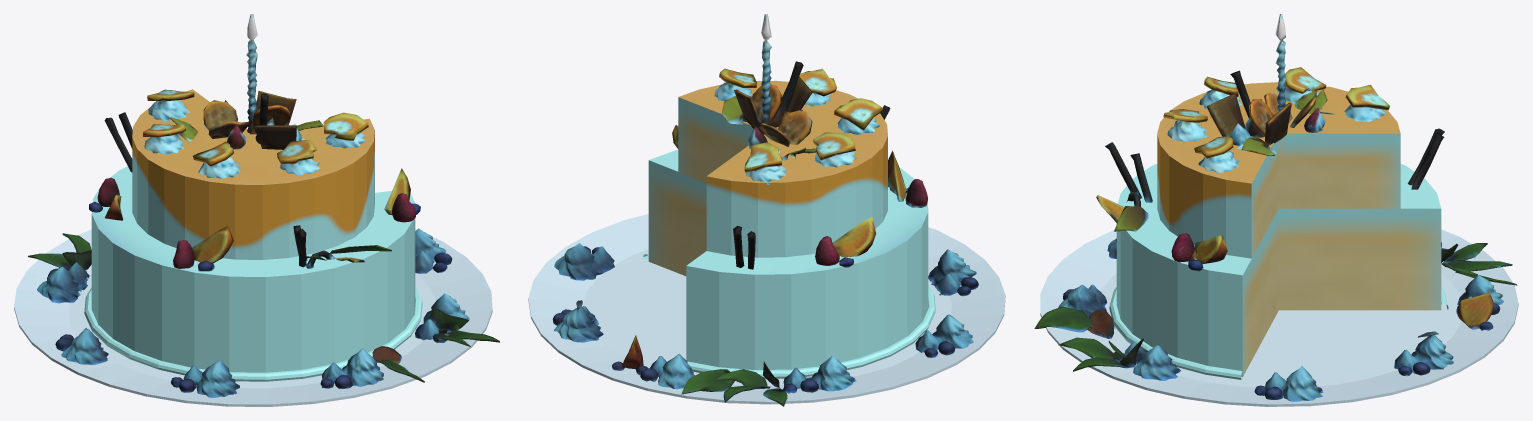
The model's file is denia_cake_2.obj.
3 renders of one model, left to right at view 1: azimuth 30°, elevation 25°; view 2: azimuth 150°, elevation 25°; view 3: azimuth 270°, elevation 25°, orthographic.
Visible parts, largest first — view 1: cake; view 2: cake; view 3: cake.
Boxes of the visible parts, x1,y1,x2,y2 form: cake: (14,14,499,406); cake: (528,14,1005,406); cake: (1034,14,1518,406).
Size of the model in its own units: 0.959 by 0.6594 by 0.9697.
